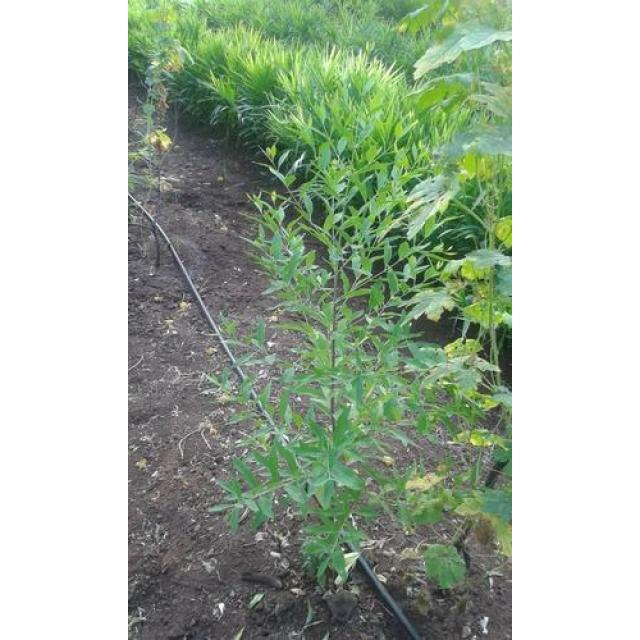Medicinal-Sandalwood: (246, 141, 438, 590)
